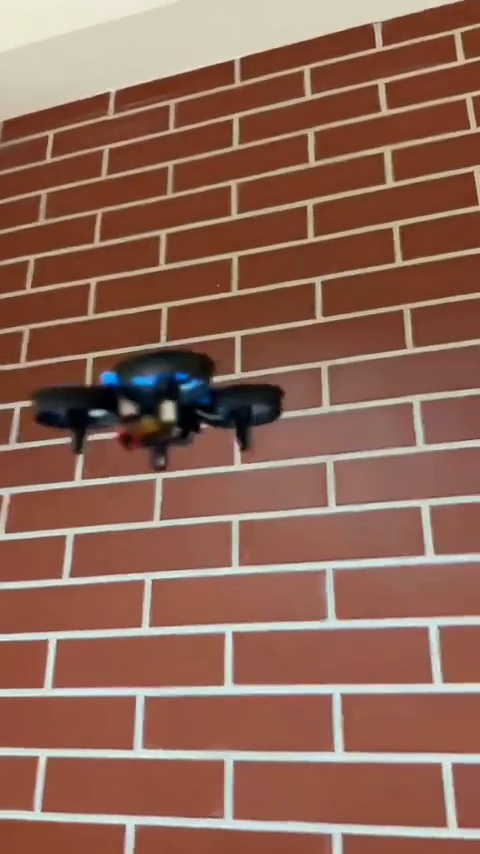drone: (32, 353, 290, 477)
